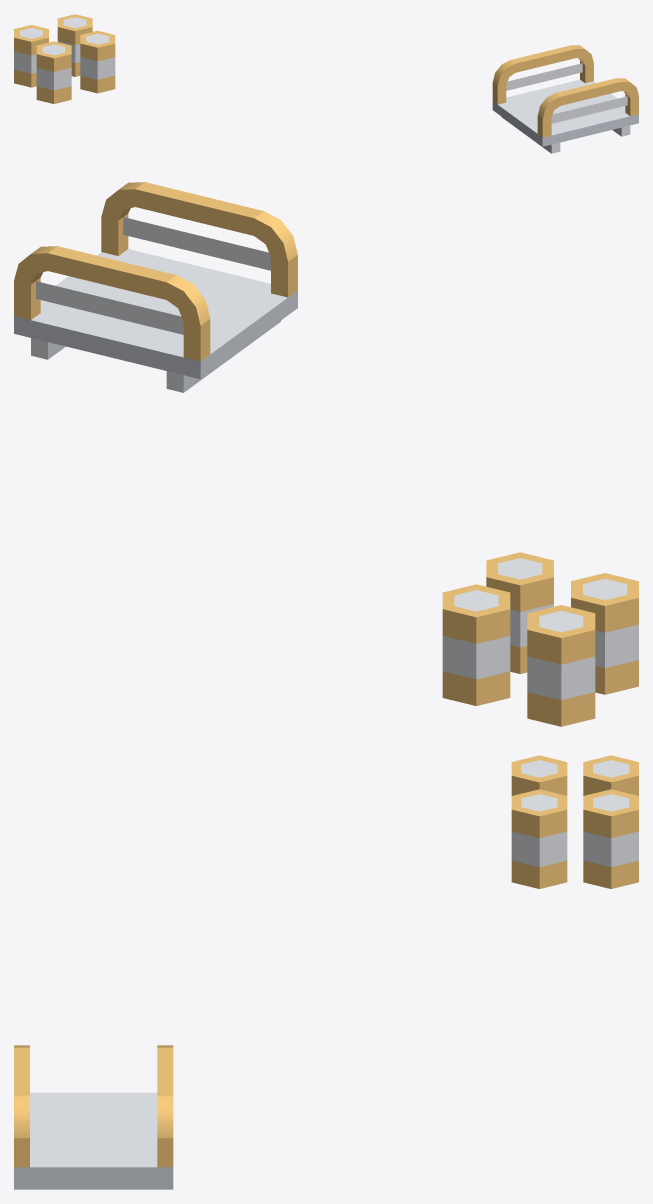
File: barrels_rail.glb
3 views of the same model, one above another, from view 1: azimuth 30°, elevation 25°; view 2: azimuth 150°, elevation 25°; view 3: azimuth 270°, elevation 25° (orthographic). The views are drawn at different scales.
Parts seen in each view (by area): view 1: barrels_rail, barrel.005, barrel.006, barrel.007, barrel.008; view 2: barrels_rail, barrel.007, barrel.008, barrel.006, barrel.005; view 3: barrels_rail, barrel.005, barrel.008, barrel.006, barrel.007.
Part boxes in pixels (left/top/right/bottom): barrels_rail: left=492, top=45, right=638, bottom=153; barrel.005: left=80, top=30, right=115, bottom=93; barrel.006: left=36, top=41, right=71, bottom=103; barrel.007: left=14, top=25, right=48, bottom=87; barrel.008: left=57, top=14, right=92, bottom=76; barrels_rail: left=14, top=182, right=297, bottom=392; barrel.007: left=527, top=605, right=595, bottom=726; barrel.008: left=442, top=584, right=510, bottom=705; barrel.006: left=571, top=573, right=638, bottom=694; barrel.005: left=486, top=552, right=553, bottom=673; barrels_rail: left=14, top=1045, right=173, bottom=1189; barrel.005: left=511, top=789, right=567, bottom=888; barrel.008: left=583, top=789, right=638, bottom=888; barrel.006: left=511, top=755, right=567, bottom=795; barrel.007: left=583, top=755, right=638, bottom=795.
Bounding box in the file's own units: 2.5 × 0.35 × 1.95.
